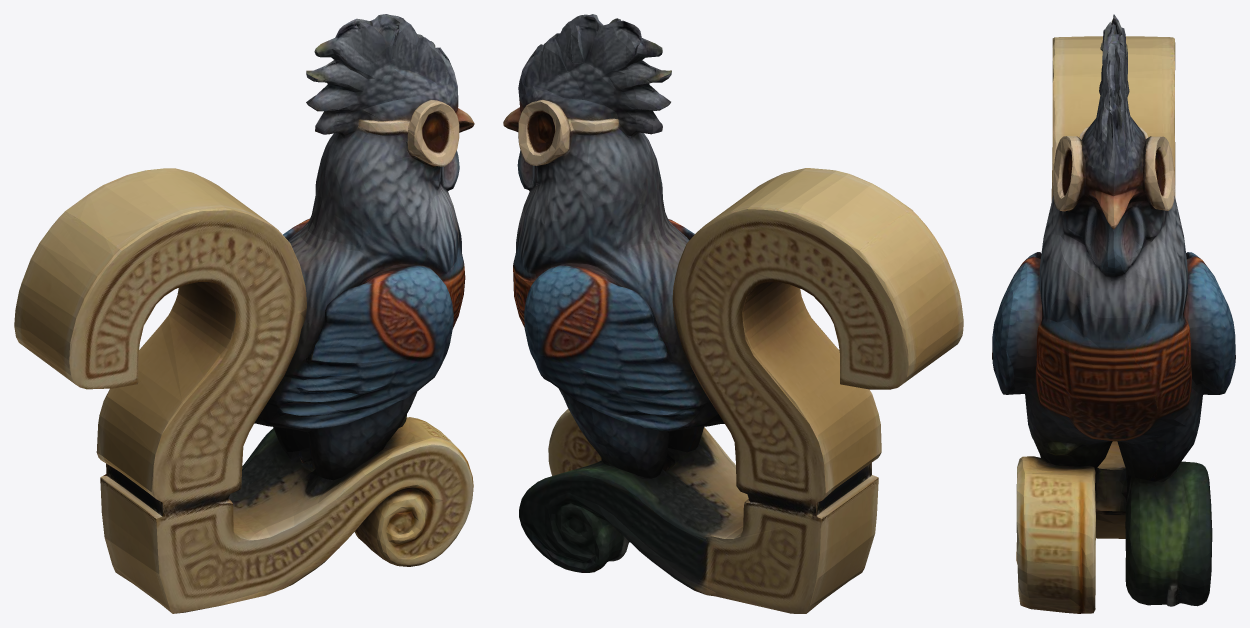
File: stillgaze__riddlecrow.glb
3 views of the same model, side by side, from view 1: azimuth 30°, elevation 25°; view 2: azimuth 150°, elevation 25°; view 3: azimuth 270°, elevation 25° (orthographic). The views are drawn at different scales.
Visible parts, largest first — view 1: world; view 2: world; view 3: world.
Boxes of the visible parts, box(x1,y1,x2,y2) form: world: box(14, 14, 474, 613); world: box(503, 14, 963, 613); world: box(992, 14, 1235, 613).
Size of the model in its own units: 0.8596 by 0.9944 by 0.3816.
Materials: 1 (1 with a texture image).
